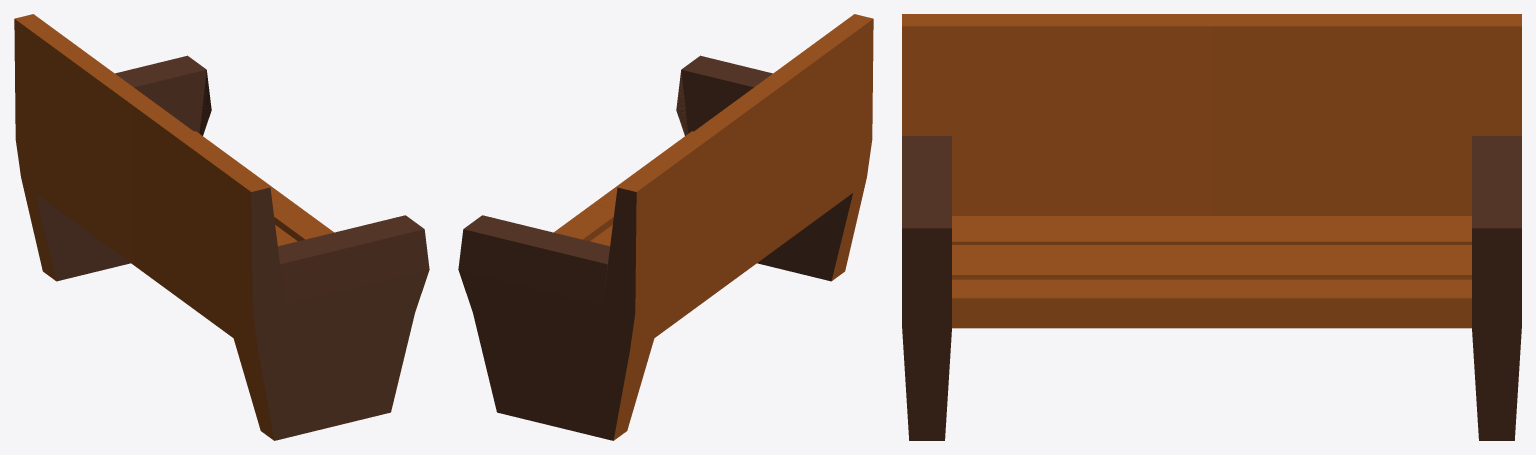
The model's file is WoodenBench.fbx.
The picture shows the model from 3 angles, left to right: view 1: azimuth 30°, elevation 25°; view 2: azimuth 150°, elevation 25°; view 3: azimuth 270°, elevation 25°; orthographic projection. The views are drawn at different scales.
Visible parts, largest first — view 1: Cube; view 2: Cube; view 3: Cube.
Part boxes in pixels (<box>): Cube: <box>14,14,429,440</box>; Cube: <box>458,14,873,440</box>; Cube: <box>902,14,1521,440</box>.
Bounding box in the file's own units: 274 × 378 × 632.
